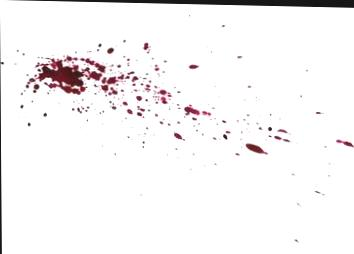Fire: (0, 30, 354, 179)
